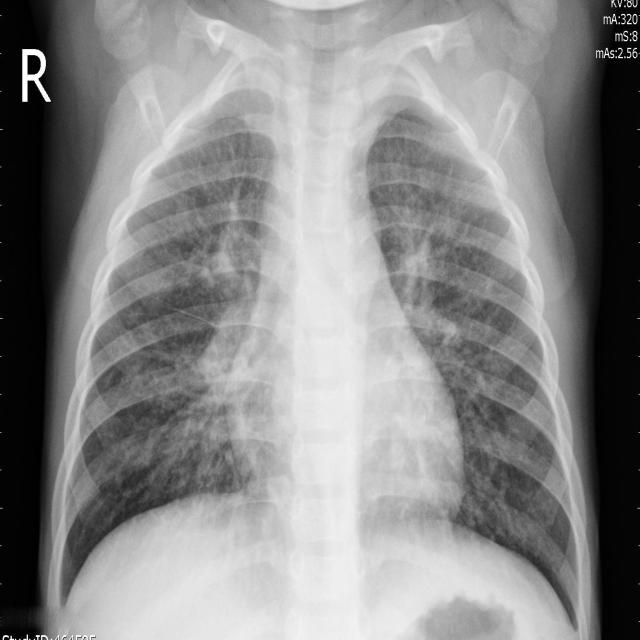low-pneumonia: (198, 213, 265, 398), (383, 223, 461, 332)
